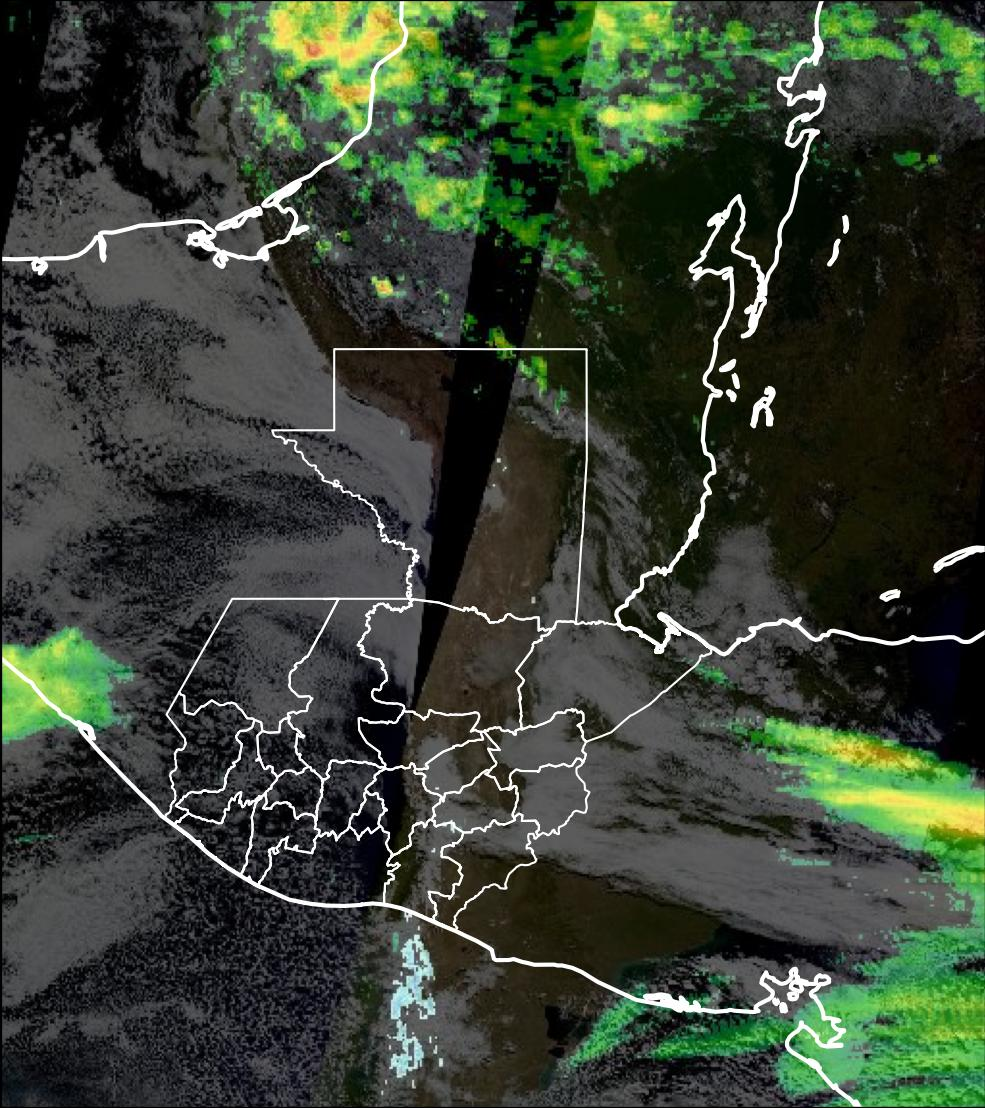precipitacion: (274, 1, 409, 79)
